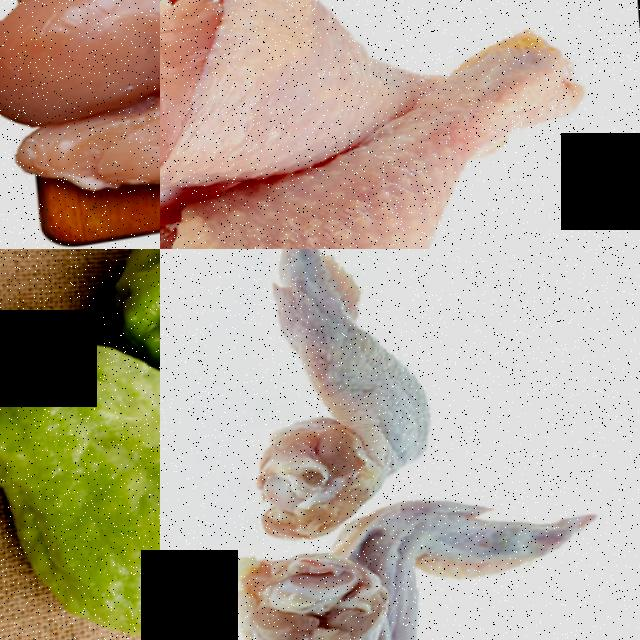chayote: (0, 374, 160, 640)
chicken breast: (23, 53, 160, 235), (0, 0, 160, 106)
chicken thigh: (160, 57, 594, 249), (160, 0, 391, 198)
chicken wing: (207, 249, 438, 532), (217, 490, 619, 640)
